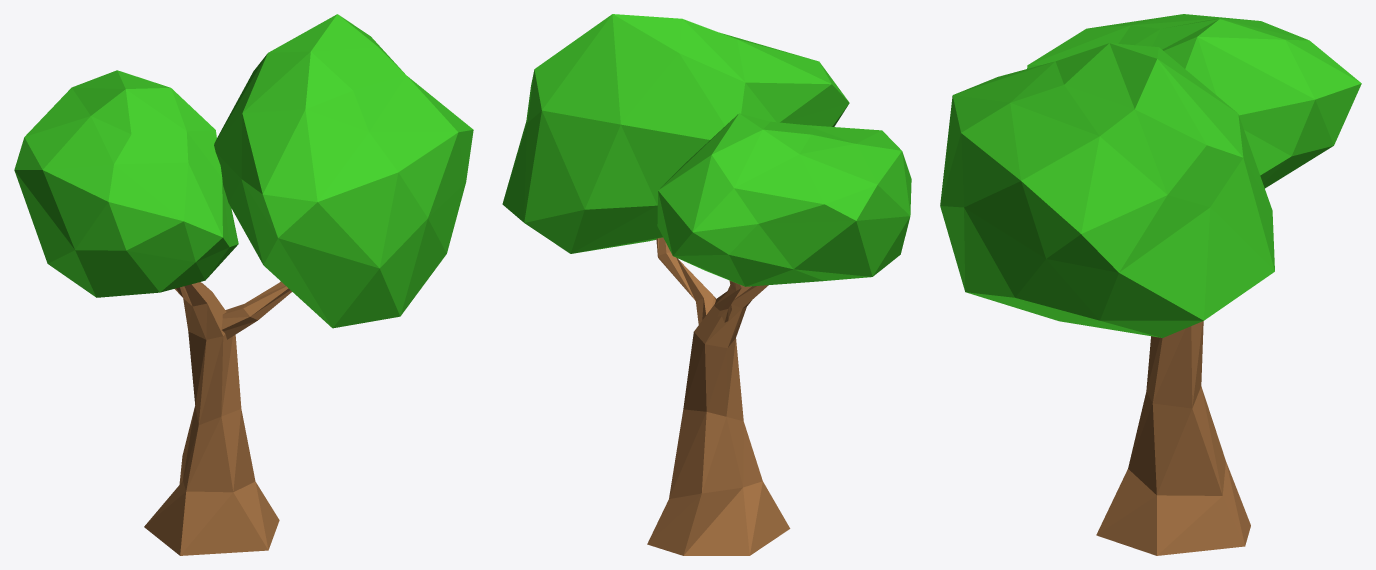
File: tree4.fbx
The picture shows the model from 3 angles, left to right: view 1: azimuth 30°, elevation 25°; view 2: azimuth 150°, elevation 25°; view 3: azimuth 270°, elevation 25°; orthographic projection. The views are drawn at different scales.
Parts seen in each view (by area): view 1: tree4; view 2: tree4; view 3: tree4.
Part boxes in pixels (x1,y1,x2,y2): tree4: [14, 14, 473, 555]; tree4: [502, 14, 911, 555]; tree4: [940, 14, 1361, 555].
Size of the model in its own units: 3.6 by 4.32 by 3.13.
